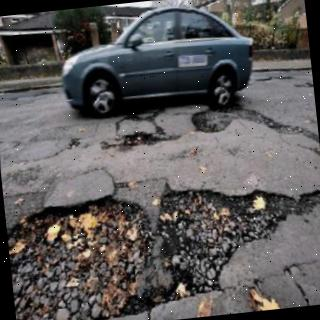pothole: (6, 189, 320, 320)
